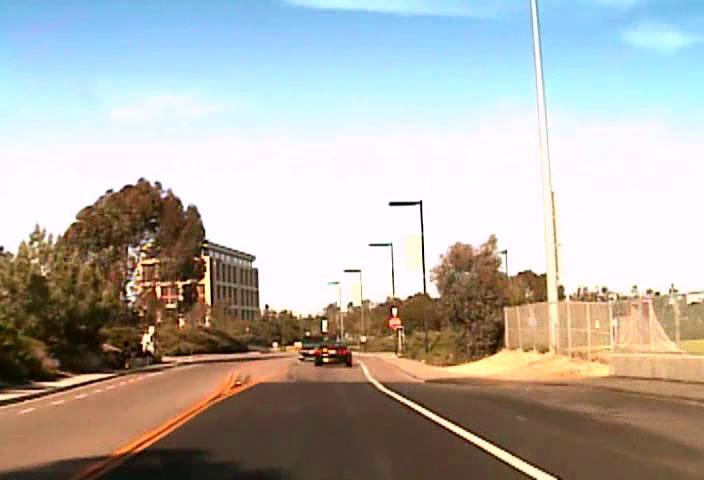stop: (388, 316, 401, 328)
